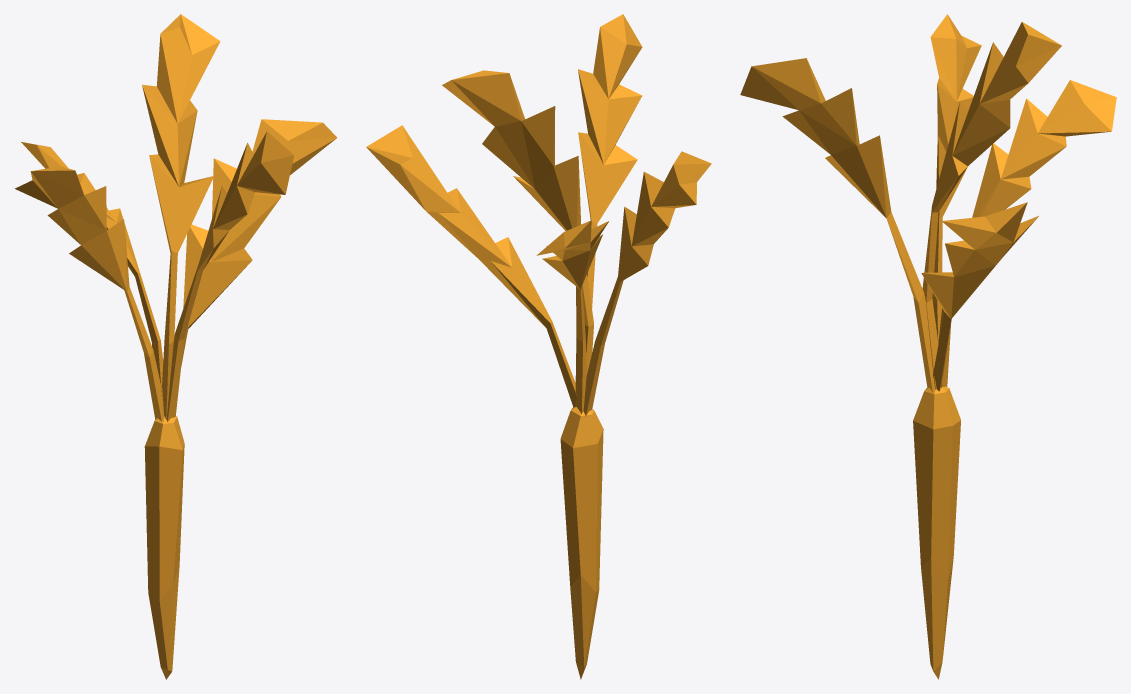
Rendered from SM_Carrot_Plant_Young_Root.fbx.
3 views of the same model, side by side, from view 1: azimuth 30°, elevation 25°; view 2: azimuth 150°, elevation 25°; view 3: azimuth 270°, elevation 25° (orthographic). The views are drawn at different scales.
Visible parts, largest first — view 1: carrot-plant-young-root; view 2: carrot-plant-young-root; view 3: carrot-plant-young-root.
Boxes of the visible parts, <box> form: carrot-plant-young-root: <box>15,14,337,679</box>; carrot-plant-young-root: <box>366,14,711,679</box>; carrot-plant-young-root: <box>740,14,1116,679</box>.
Bounding box in the file's own units: 0.2626 × 0.4862 × 0.2456.
